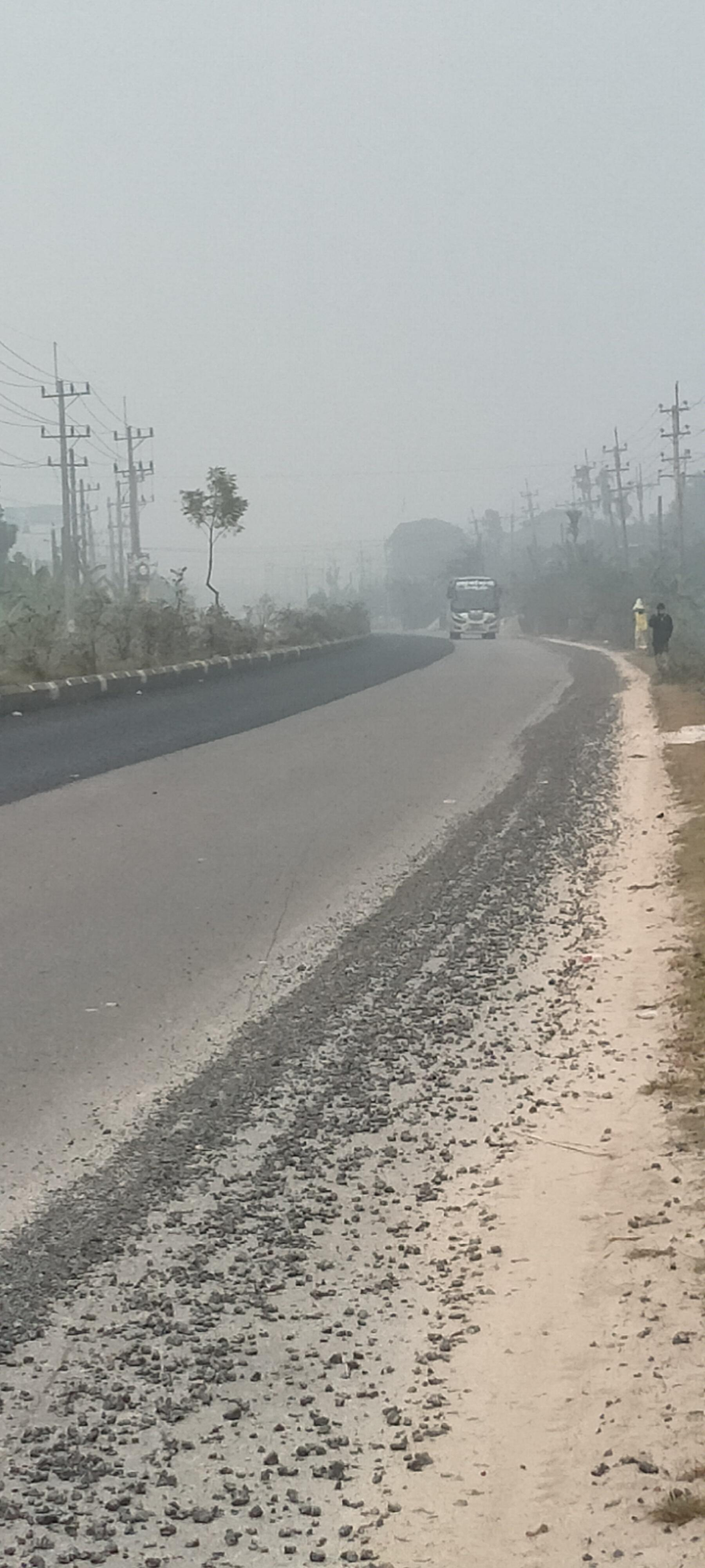Bus: (441, 570, 517, 652)
